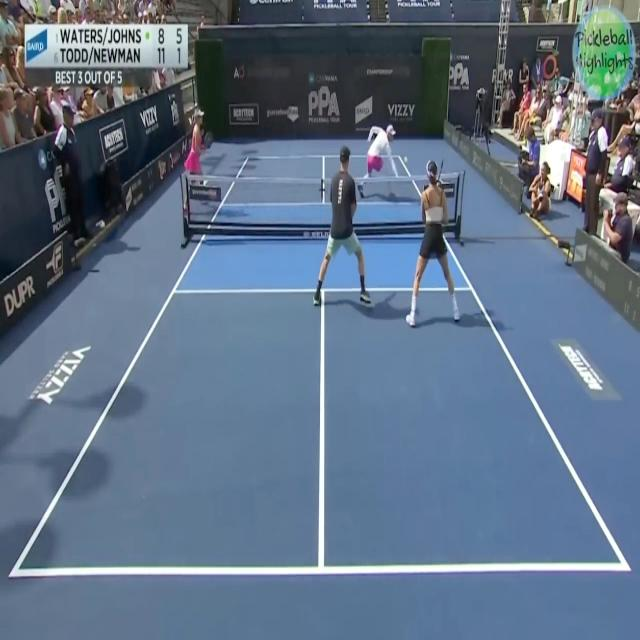Pickleball: (404, 154, 410, 166)
